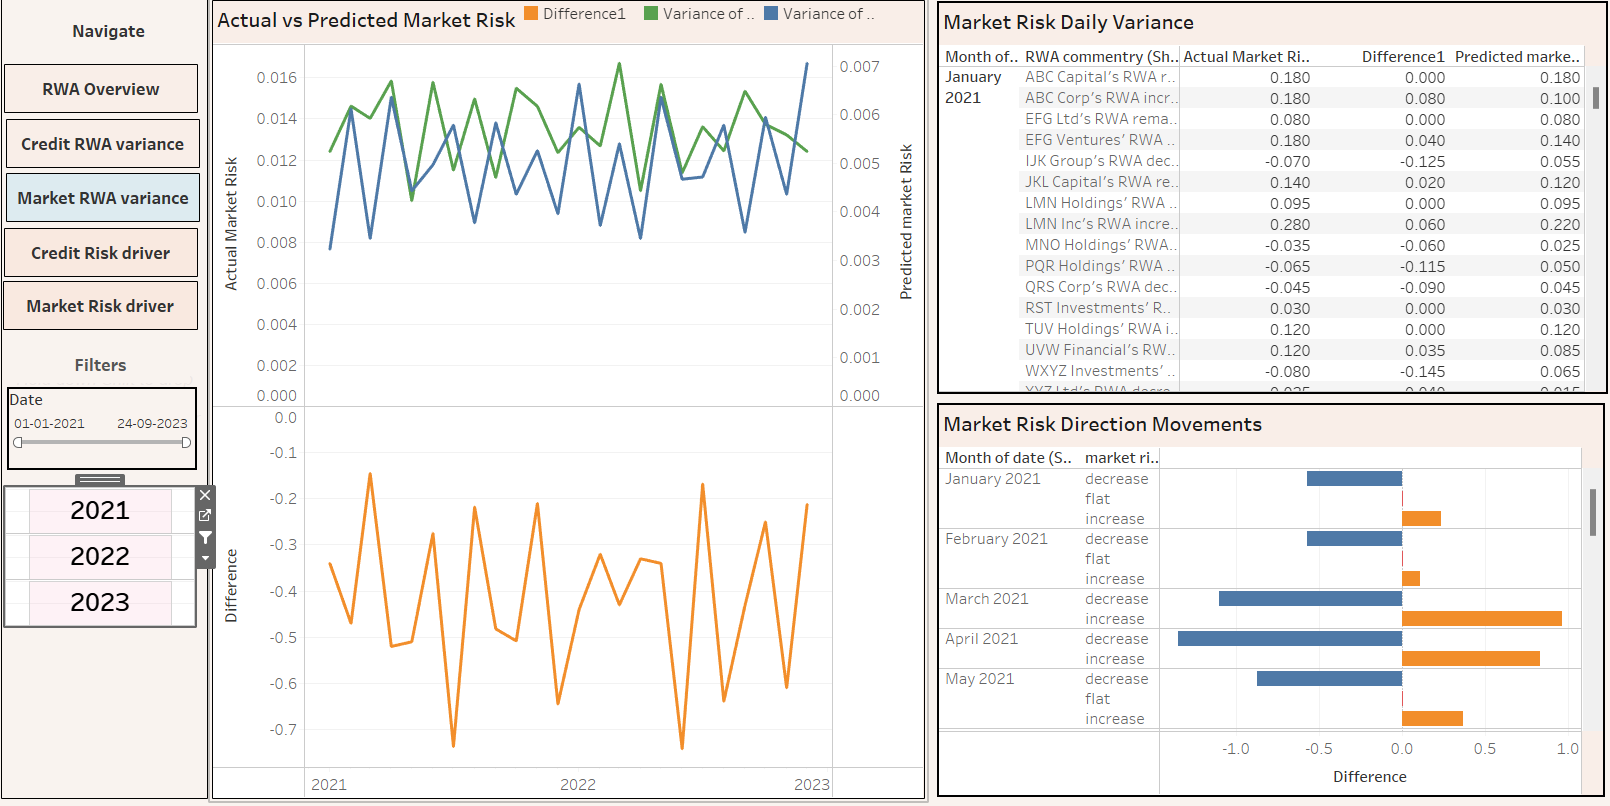

This screenshot's page, from the dashboard's own definition file:
{"tool":"tableau","page":{"name":"Market RWA variance","canvas":[1000,1000],"units":"permille","ordinal":1},"visuals":[{"type":"worksheet","title":"Sheet 5","mark":"Automatic","rows":["actual market risk","Predicted_market_Risk","Difference (Sheet12)"],"cols":["date (Sheet12)"],"box":[135,13.2,438,966.3]},{"type":"worksheet","title":"Sheet 8","mark":"Automatic","rows":["date (Sheet12)","RWA commentry (Sheet12)"],"box":[579.1,16.9,409.9,472.9]},{"type":"legend","title":"Sheet 5","param":"[federated.1azpbkn1w87z051a0ipd91t5uy5k].[:Measure Names]","box":[325,19.2,241.9,44.5]},{"type":"text","box":[13.4,26.5,119.1,50.5]},{"type":"dashboard-object","box":[9.2,92.7,118.5,59]},{"type":"dashboard-object","box":[10.4,158.8,118.5,59]},{"type":"dashboard-object","box":[10.4,223.8,118.5,59]},{"type":"dashboard-object","box":[9.2,290,118.5,59]},{"type":"dashboard-object","box":[8.6,353.8,119.1,59]},{"type":"text","box":[13.4,432,109.4,44.5]},{"type":"filter","title":"Sheet 5","param":"[federated.1azpbkn1w87z051a0ipd91t5uy5k].[none:date:qk]","box":[10.9,481.2,116.4,99.8]},{"type":"worksheet","title":"Sheet 10","mark":"Bar","rows":["date (Sheet12)","Calculation_1692227620324667392"],"cols":["Difference (Sheet12)"],"box":[579.1,500.6,408.1,474.1]},{"type":"worksheet","title":"Sheet 15","mark":"Bar","rows":["date","Calculation_119063975733788675"],"box":[9.7,602.1,116.4,166.7]}]}

Visuals, with their boxes on the dashboard's canvas, which has no fixed pixel size, in thousandths of its width and height (x1, y1, x2, y2). These are canvas units, not pixel positions in the 1610x806 screenshot, which may show the page scaled, cropped or inside an application window:
"Sheet 5" worksheet: box(135, 13, 573, 980)
"Sheet 8" worksheet: box(579, 17, 989, 490)
"Sheet 5" legend: box(325, 19, 567, 64)
text: box(13, 26, 132, 77)
dashboard-object: box(9, 93, 128, 152)
dashboard-object: box(10, 159, 129, 218)
dashboard-object: box(10, 224, 129, 283)
dashboard-object: box(9, 290, 128, 349)
dashboard-object: box(9, 354, 128, 413)
text: box(13, 432, 123, 476)
"Sheet 5" filter: box(11, 481, 127, 581)
"Sheet 10" worksheet (Bar marks): box(579, 501, 987, 975)
"Sheet 15" worksheet (Bar marks): box(10, 602, 126, 769)
